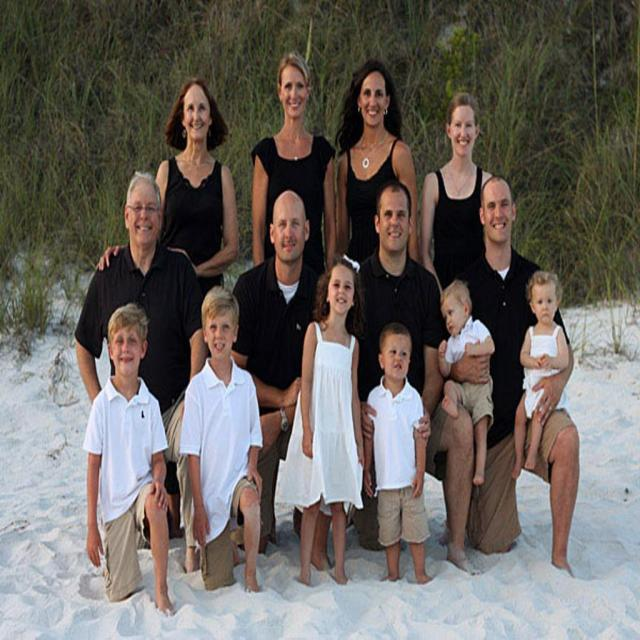Face: (379, 184, 414, 260), (197, 301, 240, 362), (273, 202, 317, 261), (108, 328, 146, 395), (130, 188, 170, 247), (442, 101, 481, 156), (377, 339, 418, 391), (358, 70, 390, 132), (179, 81, 212, 141), (529, 274, 565, 328), (486, 183, 517, 245), (281, 59, 312, 117), (324, 269, 358, 316), (442, 291, 472, 337)
